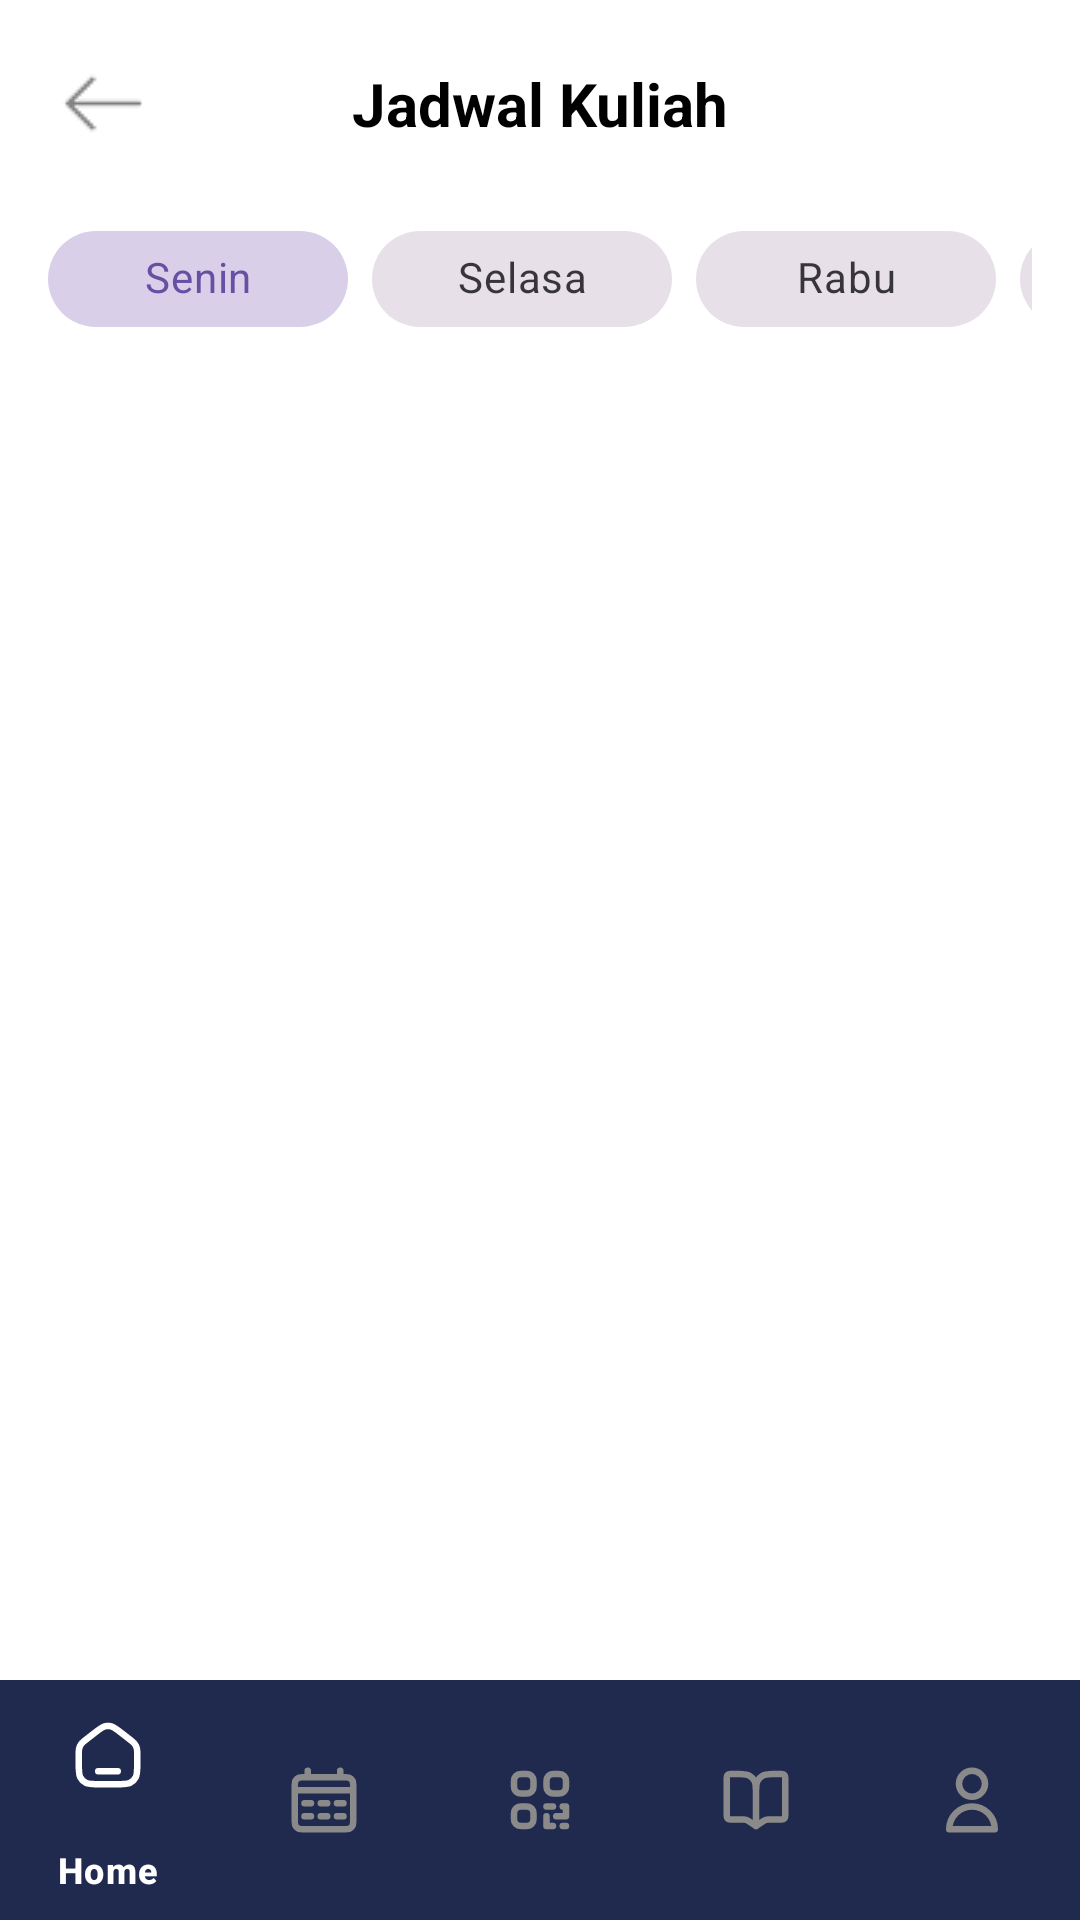

Icons on this 1080×1920 Android screen, each with the point to tap as (x,y):
arrow back: (103,104)
